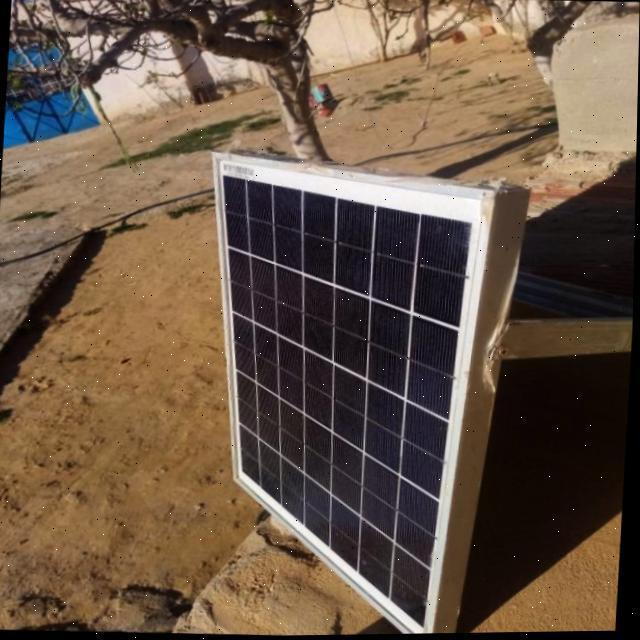Normal Solar Panel: (184, 149, 502, 638)
